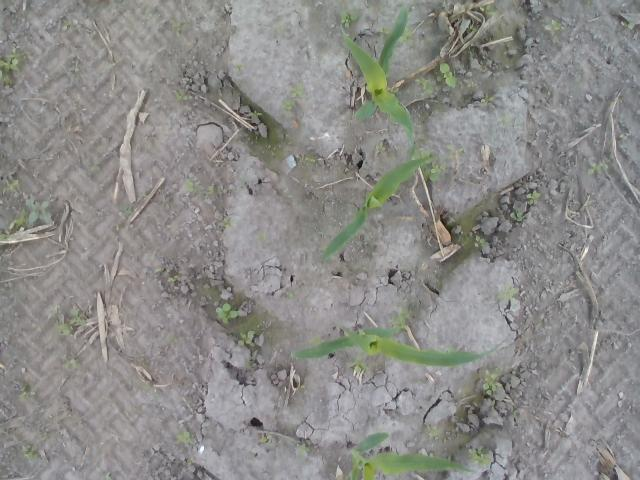Maize: (338, 5, 414, 148), (324, 158, 422, 266), (292, 325, 489, 369), (346, 432, 478, 480)
Weeds: (0, 47, 25, 86), (24, 198, 54, 224), (390, 303, 415, 331), (437, 61, 458, 88), (216, 302, 240, 325), (422, 161, 448, 182), (468, 445, 494, 466), (482, 368, 502, 394), (348, 351, 368, 373), (586, 158, 610, 176), (496, 281, 518, 300), (174, 430, 193, 449), (238, 326, 256, 346), (416, 76, 434, 96), (2, 180, 20, 199), (10, 209, 30, 226), (338, 8, 358, 25), (16, 384, 37, 400), (22, 444, 40, 462), (444, 143, 464, 158), (294, 152, 318, 164), (286, 82, 304, 98), (184, 178, 202, 193), (544, 17, 562, 32), (399, 26, 415, 42), (473, 234, 489, 249), (176, 90, 193, 104), (526, 191, 542, 205), (510, 208, 526, 222), (221, 215, 238, 228), (68, 306, 80, 324), (56, 323, 74, 335), (478, 4, 496, 16), (281, 100, 297, 112), (170, 18, 182, 32), (425, 426, 439, 438), (118, 207, 134, 217), (64, 359, 80, 368), (480, 94, 494, 104), (296, 442, 305, 456), (342, 327, 354, 337), (416, 150, 430, 158), (258, 434, 269, 444), (466, 80, 478, 89), (249, 110, 264, 117), (62, 18, 72, 28), (206, 184, 218, 192), (38, 432, 48, 441), (255, 319, 265, 328), (246, 360, 256, 369), (310, 334, 320, 343), (467, 24, 478, 32), (379, 26, 391, 33), (511, 408, 520, 417), (285, 291, 294, 298), (0, 232, 7, 241), (375, 144, 385, 150), (105, 472, 111, 480), (297, 385, 306, 390), (352, 192, 356, 200), (236, 64, 240, 72)
